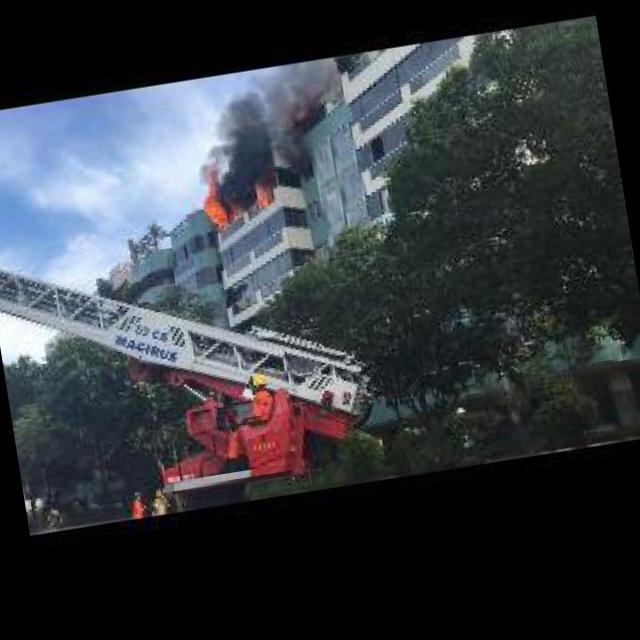fire: (199, 170, 239, 223)
